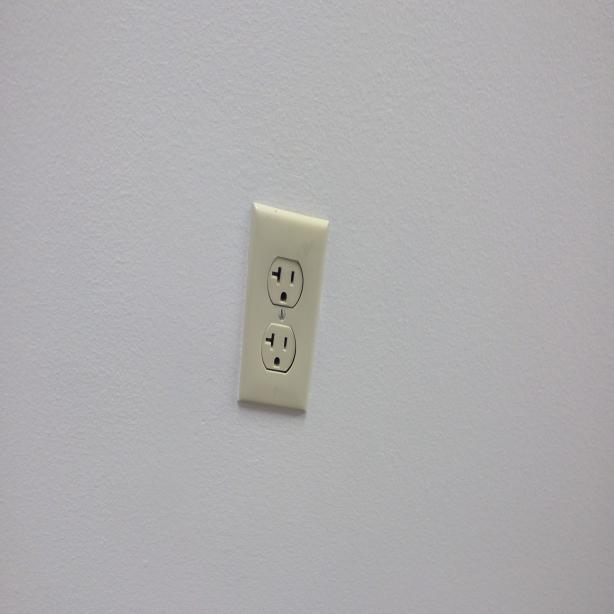typeb: (265, 254, 304, 308), (260, 325, 298, 379)
